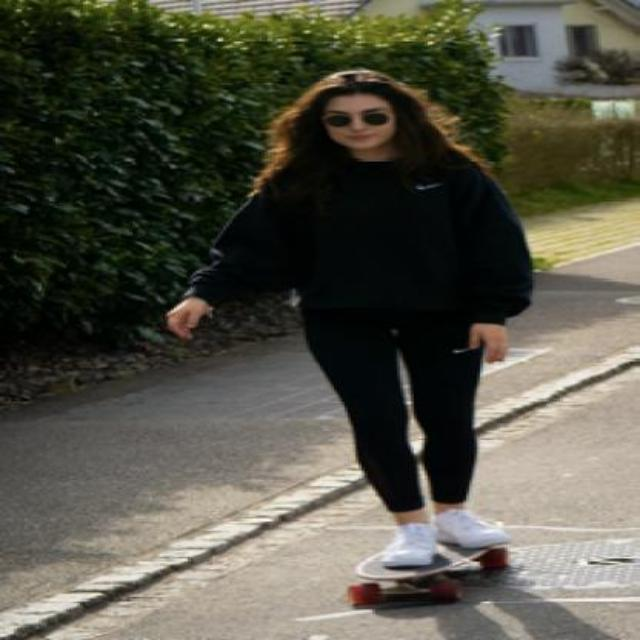glasses: (318, 112, 392, 126)
